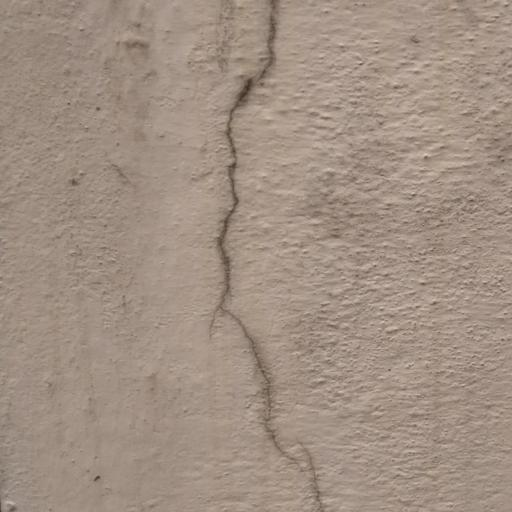minor_crack: (201, 0, 342, 512)
